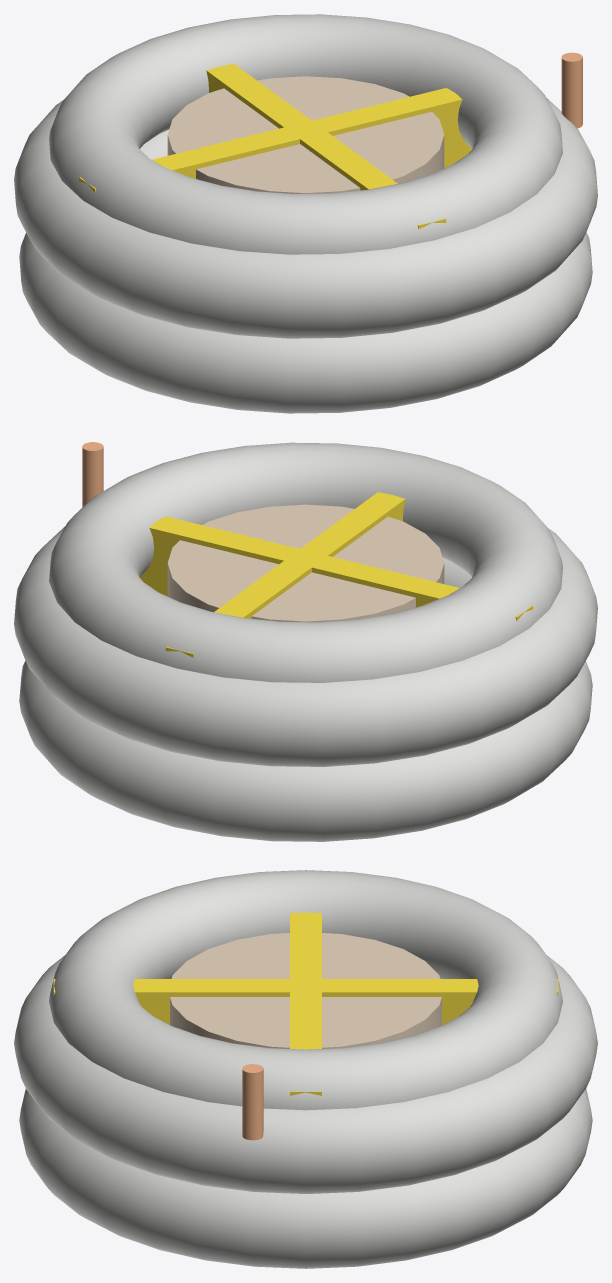
The model's file is kabel_roll.glb.
3 views of the same model, one above another, from view 1: azimuth 30°, elevation 25°; view 2: azimuth 150°, elevation 25°; view 3: azimuth 270°, elevation 25° (orthographic).
Bounding box in the file's own units: 1.1 × 0.44 × 1.1.
